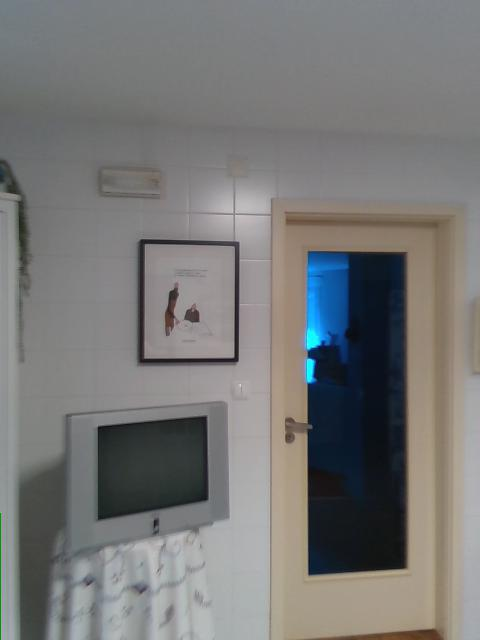closed_door: (271, 201, 461, 639)
